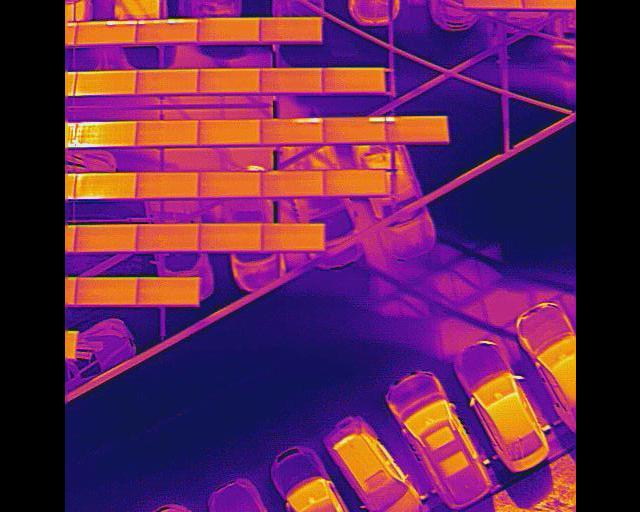No-Anomaly: (76, 276, 137, 307), (138, 276, 197, 307), (134, 223, 197, 252), (198, 223, 261, 252), (261, 223, 323, 252), (323, 169, 386, 196), (74, 224, 134, 252), (322, 66, 384, 93), (259, 170, 323, 196), (258, 17, 321, 43), (258, 66, 321, 92), (197, 118, 260, 144), (198, 171, 260, 197), (73, 70, 134, 95), (136, 119, 198, 143), (136, 172, 198, 196), (197, 17, 258, 41), (198, 68, 259, 92), (135, 70, 197, 92)
Unclassified: (259, 116, 323, 143), (384, 117, 447, 143), (74, 174, 136, 200), (322, 117, 384, 143), (73, 20, 135, 45), (72, 122, 136, 146), (135, 19, 196, 42)
